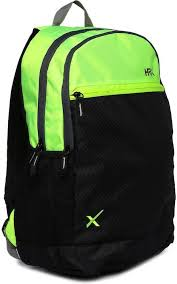backpack: (1, 0, 175, 279)
